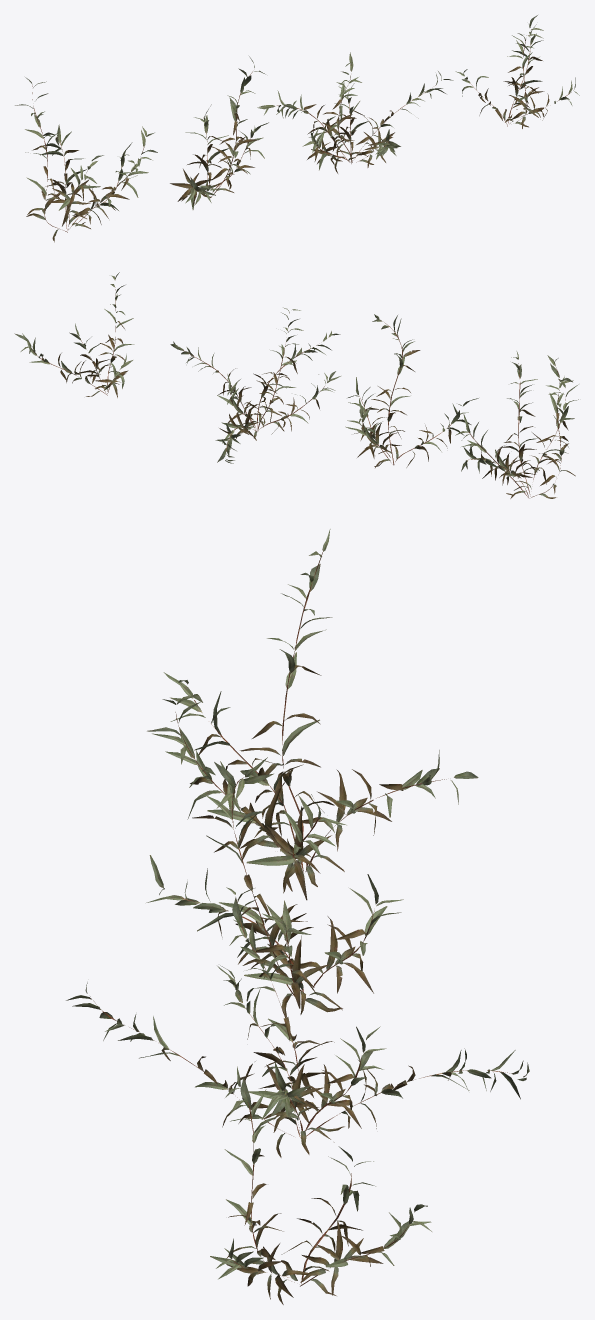
The model's file is shrub_02.glb.
3 views of the same model, one above another, from view 1: azimuth 30°, elevation 25°; view 2: azimuth 150°, elevation 25°; view 3: azimuth 270°, elevation 25° (orthographic). The views are drawn at different scales.
Parts seen in each view (by area): view 1: shrub_02_a; view 2: shrub_02_a; view 3: shrub_02_a.
Boxes of the visible parts, box(x1,y1,x2,y2) form: shrub_02_a: box(15, 15, 579, 242); shrub_02_a: box(14, 272, 578, 498); shrub_02_a: box(66, 529, 529, 1304).
Bounding box in the file's own units: 6.05 × 1.7 × 2.28.
1 material, 1 textured.
